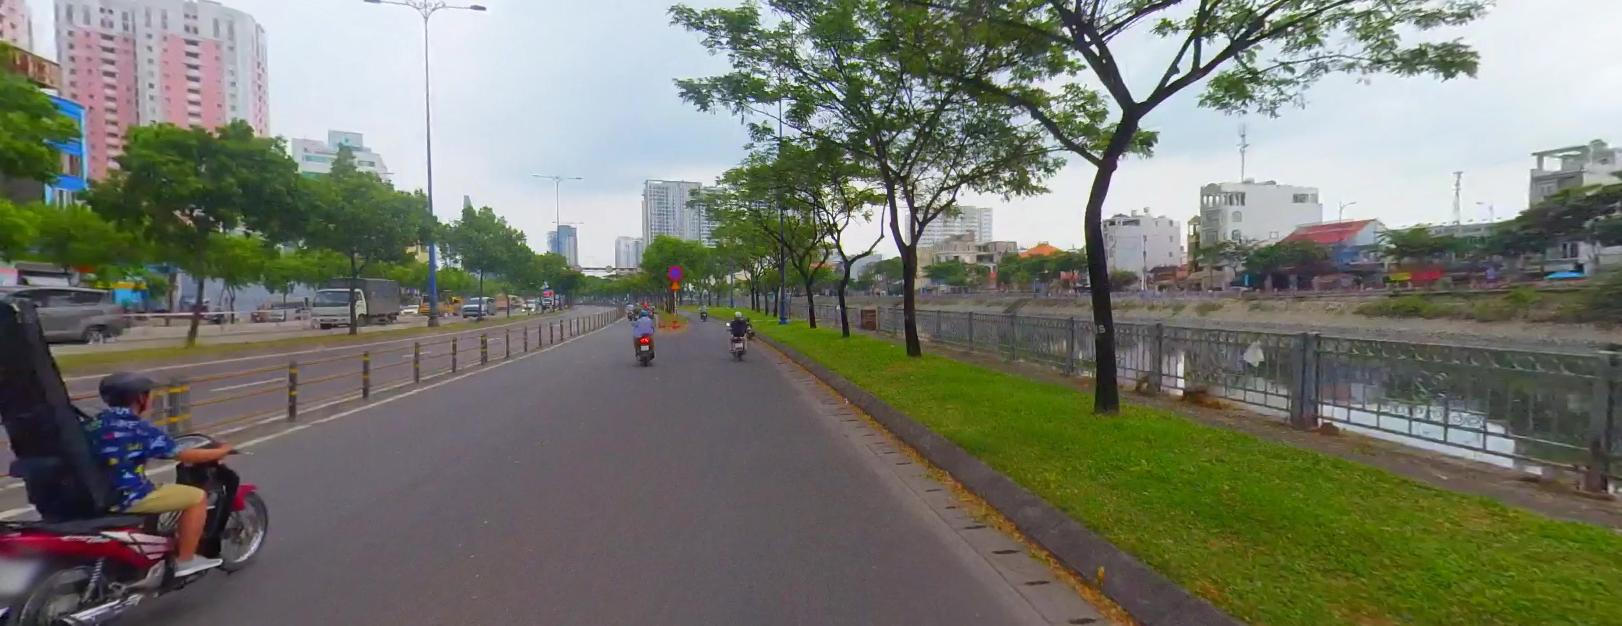Cam dung va do: (667, 263, 682, 277)
Nguy hiem: (669, 280, 680, 289)
